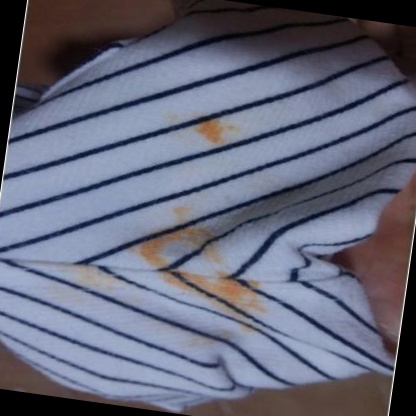kimchi: (164, 266, 265, 322), (61, 256, 116, 294), (171, 227, 220, 266), (191, 111, 235, 151), (129, 238, 171, 273), (176, 328, 217, 353), (166, 205, 188, 225), (235, 319, 252, 338)
